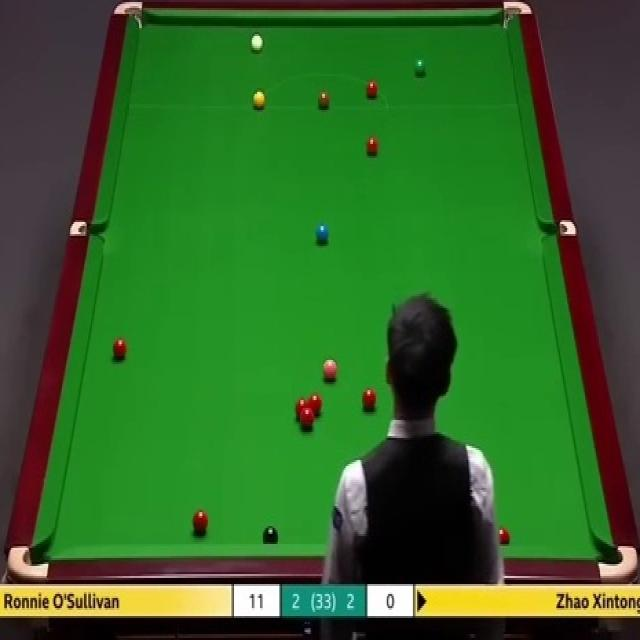black-ball: (261, 523, 278, 543)
blue-ball: (315, 224, 330, 244)
brown-ball: (318, 88, 330, 108)
green-ball: (412, 56, 426, 78)
pink-ball: (322, 359, 339, 384)
red-ball: (112, 338, 127, 365), (192, 511, 208, 534), (362, 386, 377, 410), (294, 398, 308, 422), (364, 134, 380, 155), (309, 393, 322, 418), (494, 525, 510, 545), (364, 78, 379, 99), (300, 411, 316, 430)
white-ball: (250, 32, 264, 52)
yellow-ball: (252, 91, 266, 109)
